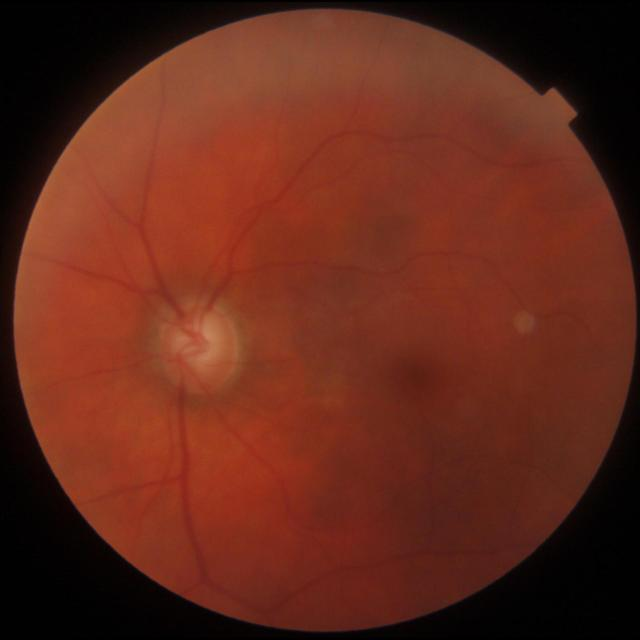OC: (176, 315, 220, 363)
OD: (162, 307, 237, 394)
